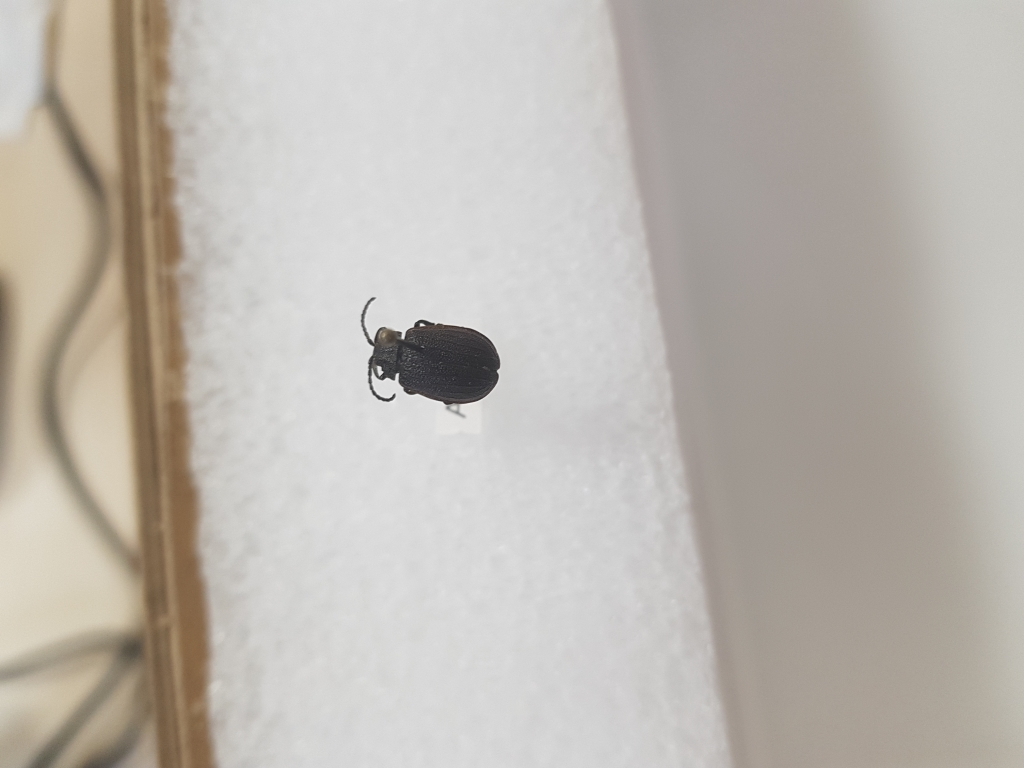Galeruca_tanaceti: (349, 294, 503, 411)
